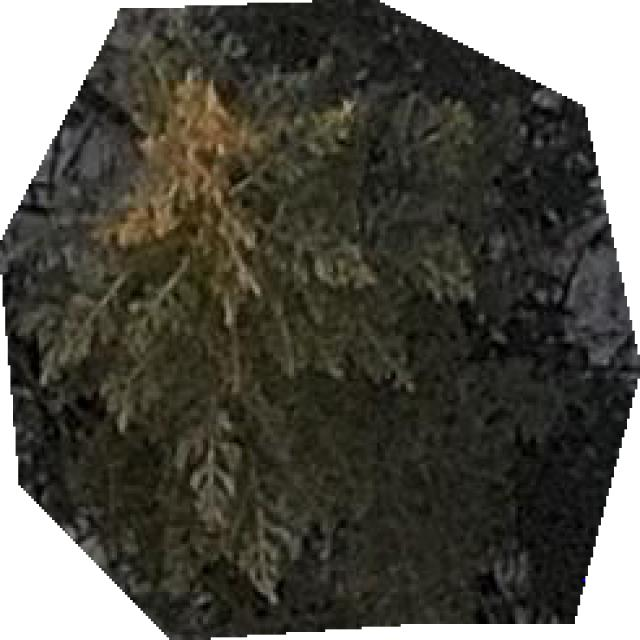spruce: (0, 0, 637, 637)
